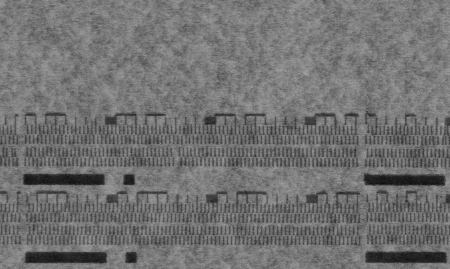Broken hole: (169, 146, 184, 168)
Oblique printing: (437, 124, 448, 146)
